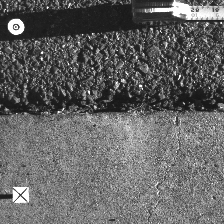circle: (7, 17, 25, 35)
crack: (1, 95, 223, 117)
square: (12, 187, 29, 203)
